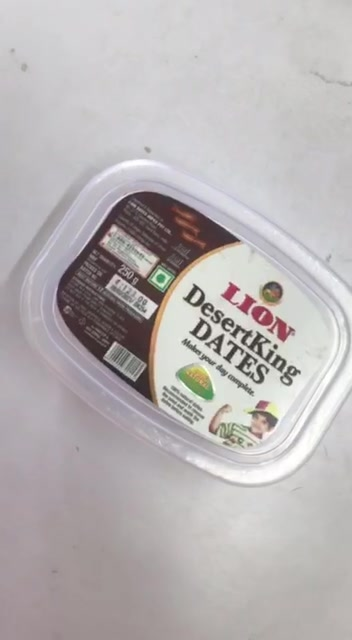Lion dates: (22, 162, 352, 484)
